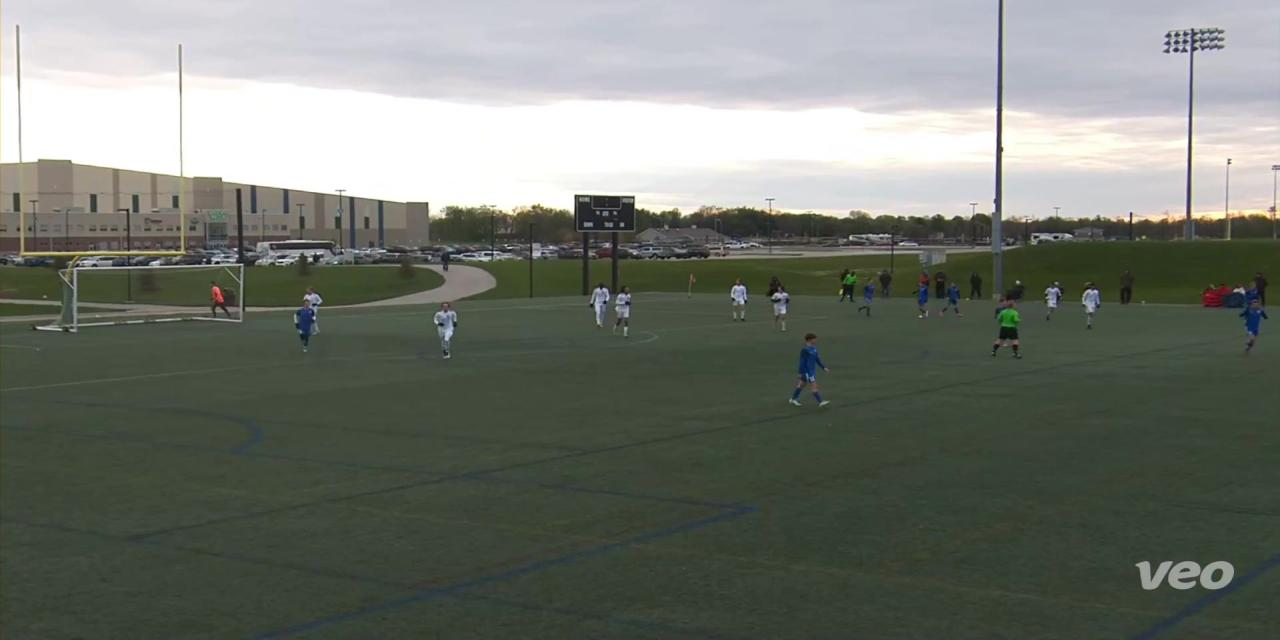goal: (25, 260, 283, 342)
sports ball: (37, 288, 54, 303)
